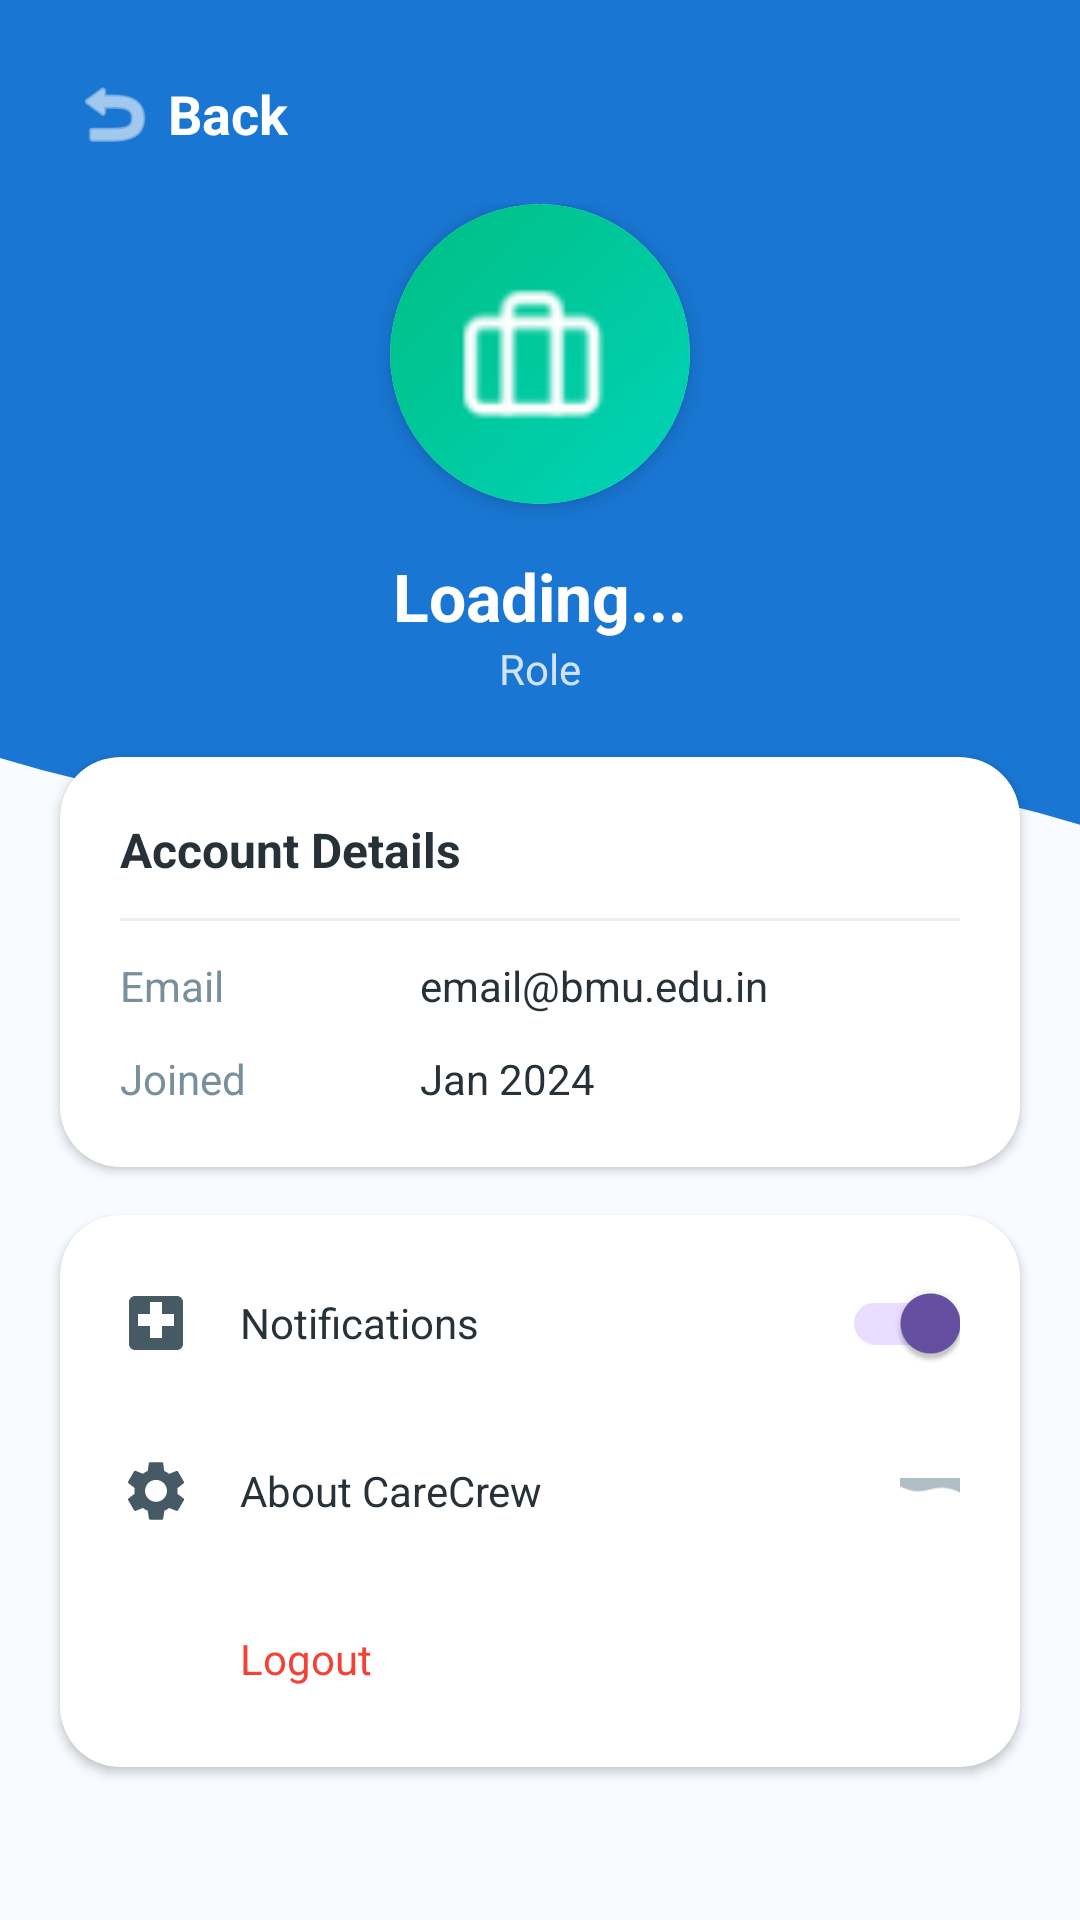

Point at icon controls on the screen. Image size 1080*1920, points as (x=x, y=y).
health: (x=156, y=1323)
settings: (x=156, y=1491)
